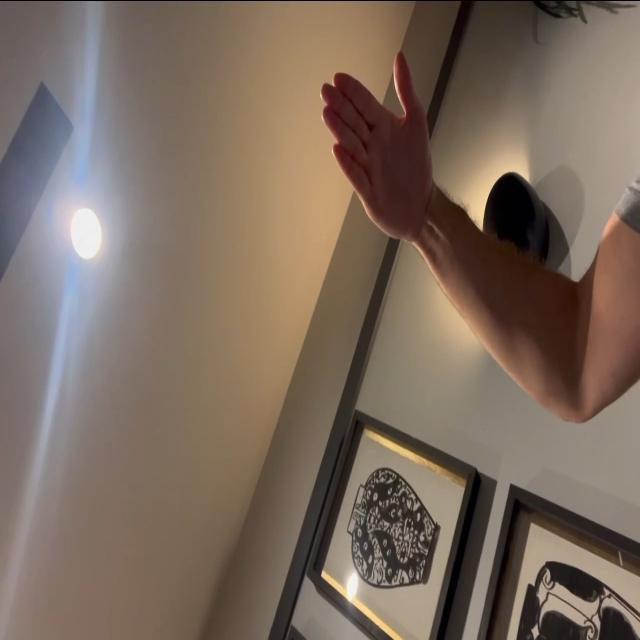Paper: (318, 46, 432, 248)
